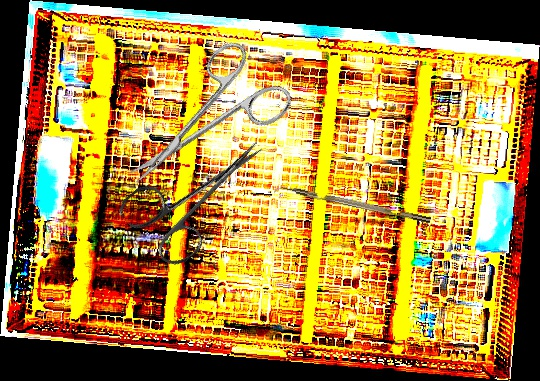Chopper: (272, 181, 432, 232)
Iris Scissors: (100, 30, 299, 214), (114, 110, 287, 275)
